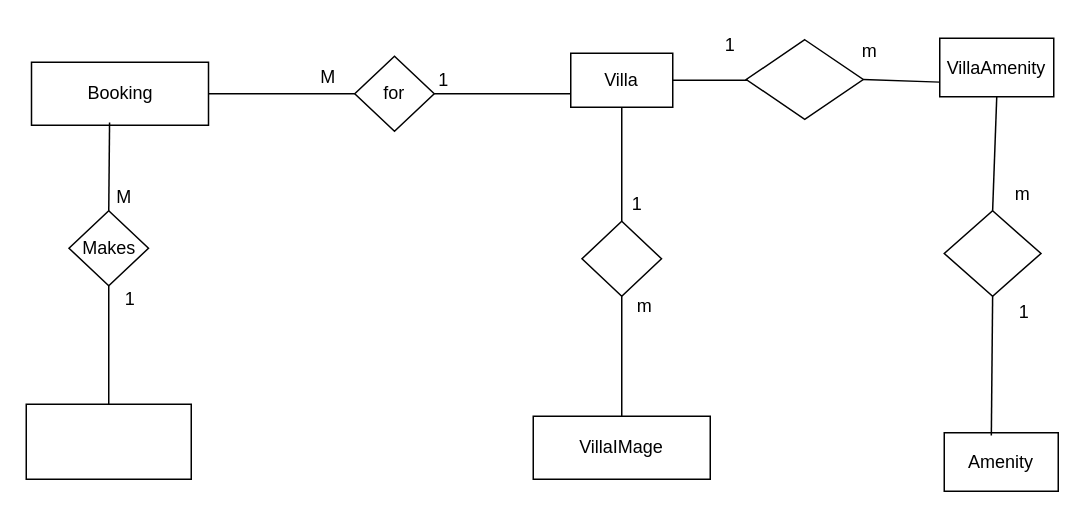
Image size: 1085x518. Some labels were removed from this diagram. The shapes that lost their labels are listed below. From the top down, each one's centre as x and y in pixels, then its label:
the point at 804,78: Contains
the point at 621,258: Has
the point at 992,252: Belongs
the point at 108,441: ApplicationUser
